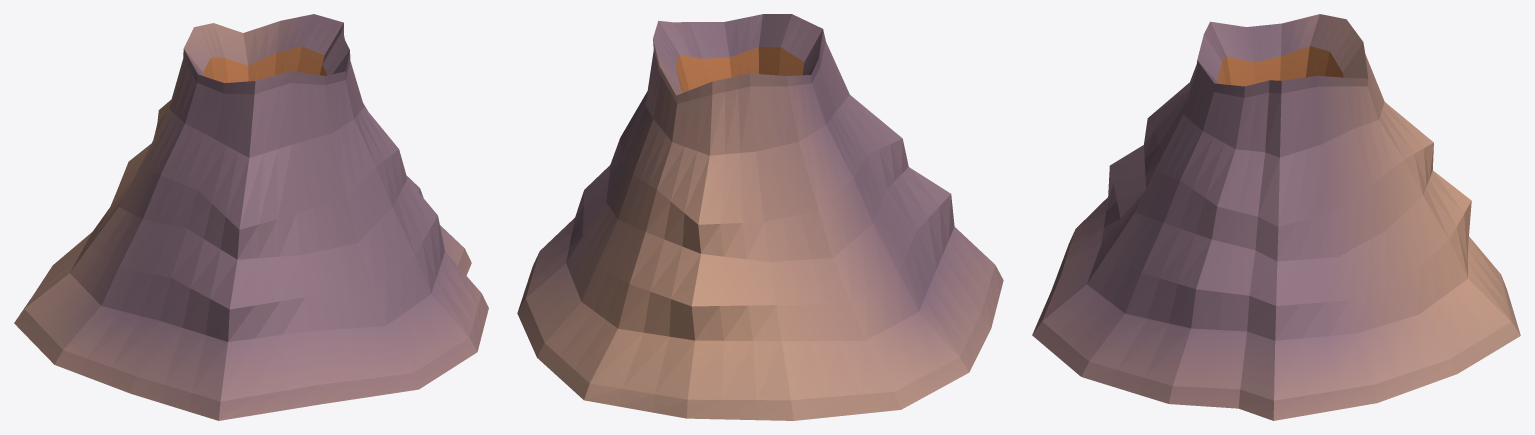
File: Volcano_1.glb
The picture shows the model from 3 angles, left to right: view 1: azimuth 30°, elevation 25°; view 2: azimuth 150°, elevation 25°; view 3: azimuth 270°, elevation 25°; orthographic projection. The views are drawn at different scales.
Visible parts, largest first — view 1: b612__Volcano_1; view 2: b612__Volcano_1; view 3: b612__Volcano_1.
Part boxes in pixels (bbox=[...]): b612__Volcano_1: bbox=[14, 14, 488, 420]; b612__Volcano_1: bbox=[517, 14, 1003, 420]; b612__Volcano_1: bbox=[1032, 14, 1520, 420].
Bounding box in the file's own units: 1.54 × 0.95 × 1.51.
